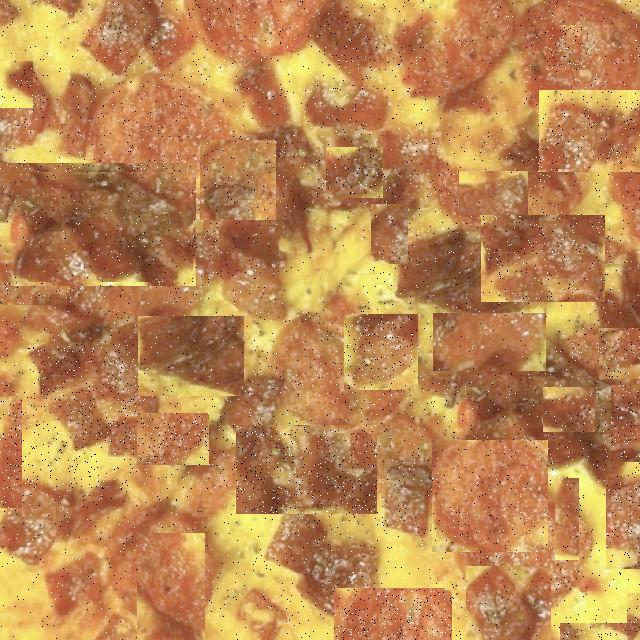Ham: (0, 163, 196, 286), (0, 172, 193, 282), (236, 425, 377, 514), (481, 215, 605, 302), (265, 33, 375, 130), (138, 316, 244, 396), (539, 90, 640, 172), (466, 566, 551, 640), (344, 314, 418, 390), (266, 574, 326, 628), (606, 474, 640, 569), (460, 171, 530, 217), (326, 147, 383, 198), (543, 387, 595, 432), (611, 386, 640, 464), (372, 204, 409, 264), (599, 328, 640, 379), (555, 478, 579, 560), (546, 26, 582, 72), (0, 62, 33, 110), (560, 623, 640, 640), (627, 593, 640, 640)
Pepperoni: (26, 346, 146, 490), (0, 511, 120, 635), (49, 29, 181, 140), (432, 440, 548, 552), (429, 9, 528, 123), (262, 212, 359, 308), (137, 533, 205, 640), (433, 313, 548, 371), (334, 588, 452, 640), (200, 140, 276, 220), (137, 413, 209, 465), (0, 253, 70, 305), (0, 396, 22, 508)
Pizza: (0, 0, 640, 640)
